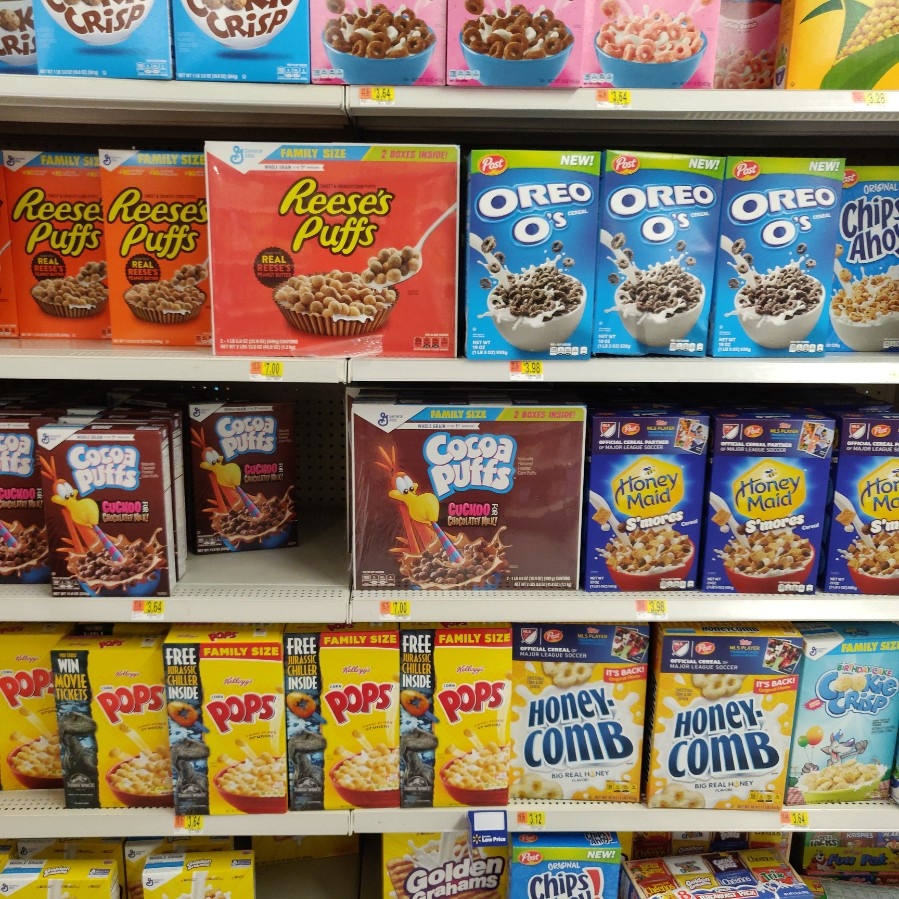Chips Ahoys-565717529: (838, 161, 899, 346), (508, 843, 621, 899)
Honey Comb- 009288857: (653, 627, 797, 806), (519, 628, 649, 803)
Oreo-563424384: (469, 144, 595, 357), (719, 155, 838, 355), (605, 145, 716, 356)
